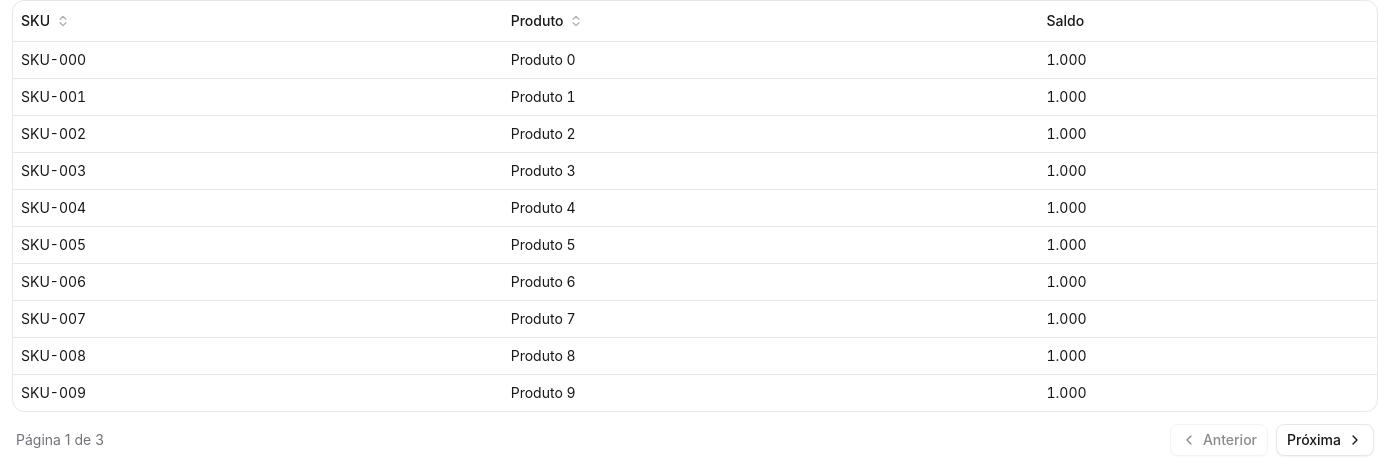
Test: DataTable › paginação › desabilita o botão próxima na última página
Step 1. Click the button "Próxima" → (1325, 440), box 1276,424 -> 1374,456
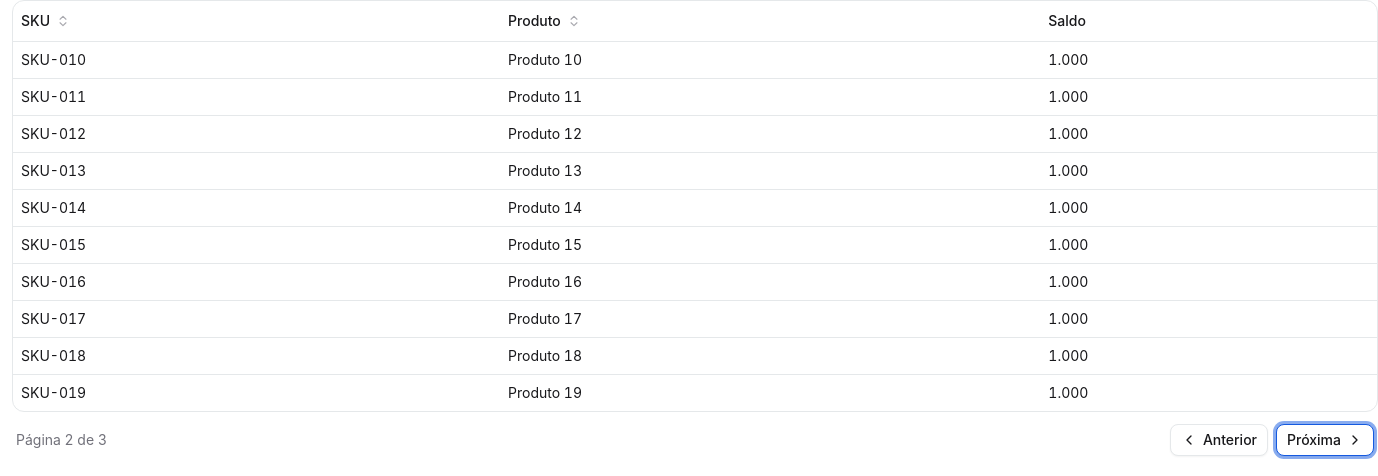
Step 2. Click the button "Próxima" → (1325, 440), box 1276,424 -> 1374,456
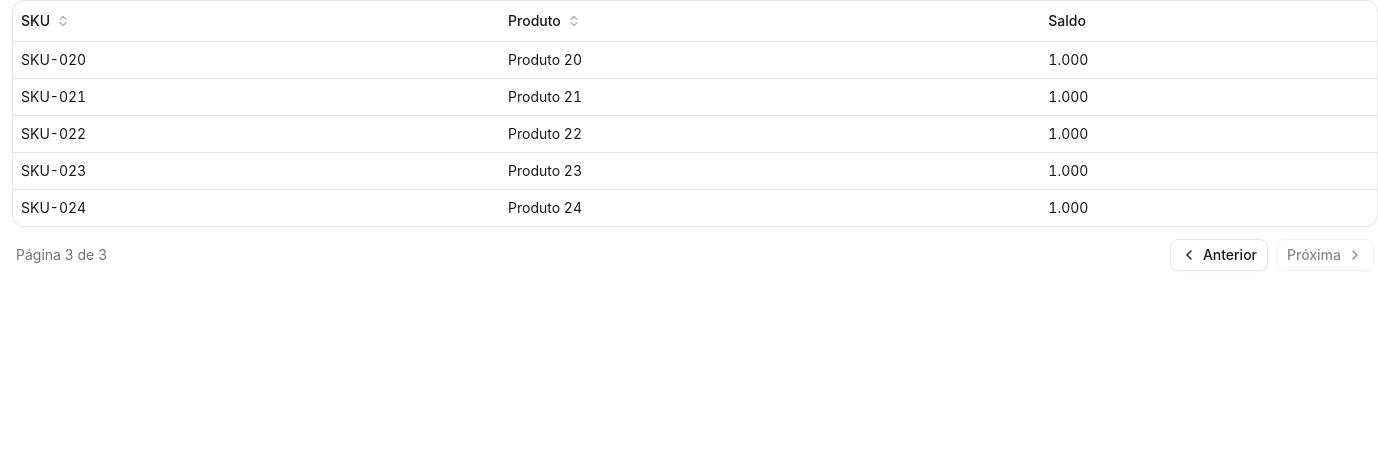
Result: the text "Página 3 de 3" is shown at 16,244 -> 107,264
Result: the button "Próxima" is disabled at 1276,238 -> 1374,270
